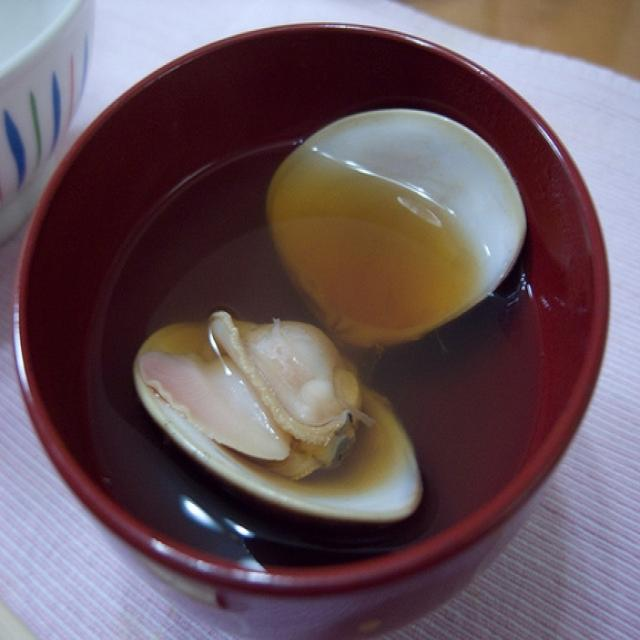汤锅炖物: (24, 31, 604, 608)
